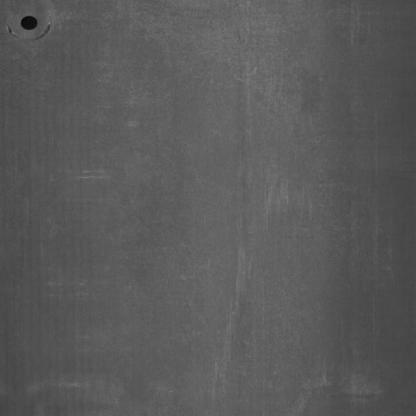punching_hole: (20, 10, 40, 34)
